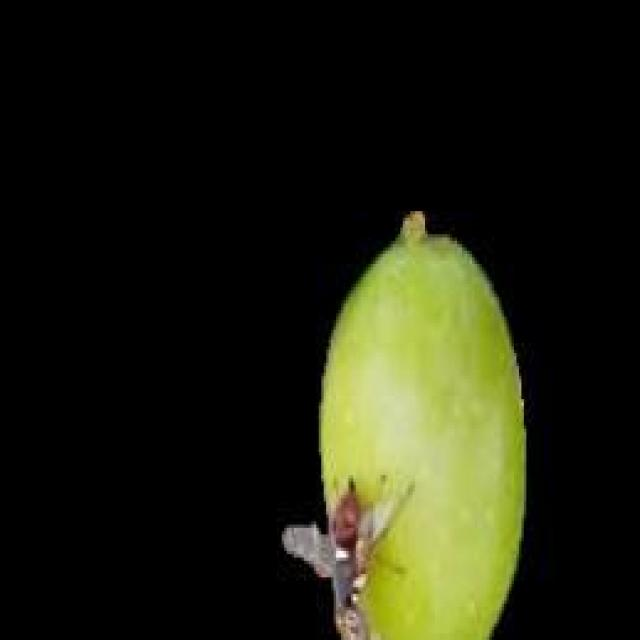Olive Fruit Fly: (284, 478, 413, 637)
